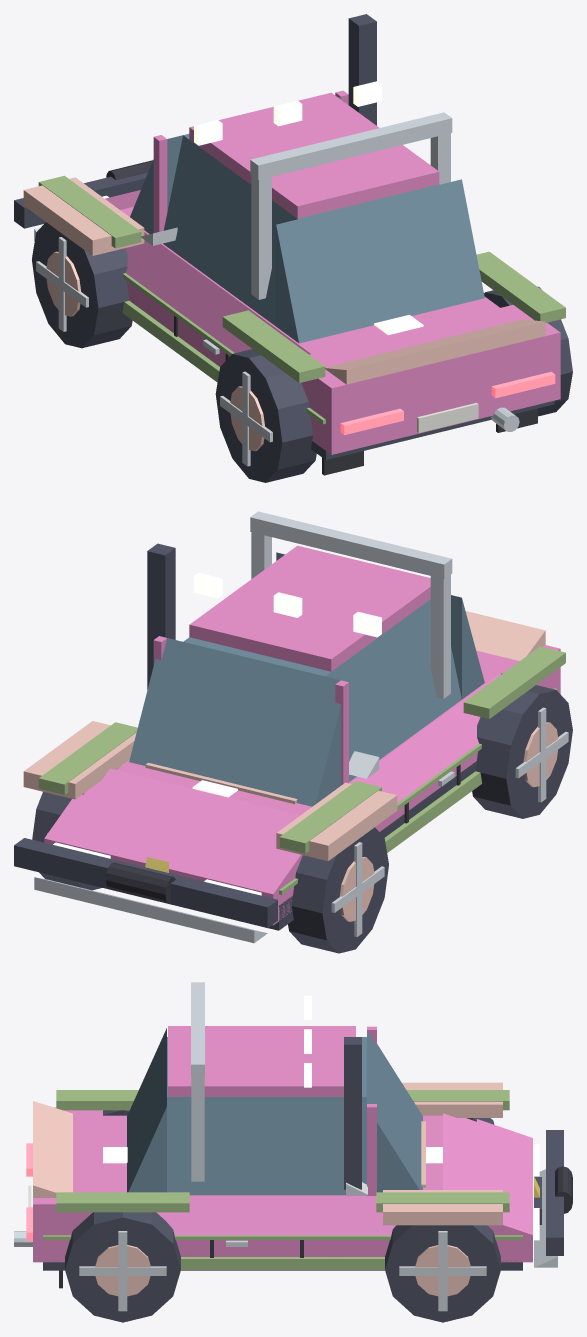
File: prairie_pulse.glb
The picture shows the model from 3 angles, top to bottom: view 1: azimuth 30°, elevation 25°; view 2: azimuth 150°, elevation 25°; view 3: azimuth 270°, elevation 25°; orthographic projection. The views are drawn at different scales.
Visible parts, largest first — view 1: RearWindow.175, Roof.275, Tail.075, CabinSideL.072, Wheel_RL.235, Body.275, Wheel_FL.235, ShoulderL.072, Ducktail.055, RollBar.068, Fender-1.068, Arch-1True.151 (+27 smaller); view 2: Windshield.175, Nose.072, Roof.275, CabinSideL.072, Wheel_RL.235, Wheel_FL.235, BashBar.068, ShoulderL.072, RollBar.068, Fender-1.068, Bumper.271, Fender1.068 (+29 smaller); view 3: CabinSideR.072, Roof.275, ShoulderR.072, Wheel_RR.235, Nose.072, Wheel_FR.235, Windshield.175, Body.275, RearWindow.175, Tail.075, Ducktail.055, Fender1.068 (+23 smaller).
Boxes of the visible parts, bbox=[...] form: RearWindow.175: bbox=[276, 179, 484, 343]; Roof.275: bbox=[189, 92, 439, 218]; Tail.075: bbox=[301, 305, 560, 423]; CabinSideL.072: bbox=[163, 135, 297, 326]; Wheel_RL.235: bbox=[215, 349, 316, 482]; Body.275: bbox=[44, 221, 560, 454]; Wheel_FL.235: bbox=[32, 222, 132, 348]; ShoulderL.072: bbox=[125, 232, 310, 354]; Ducktail.055: bbox=[325, 319, 545, 384]; RollBar.068: bbox=[250, 112, 452, 179]; Fender-1.068: bbox=[23, 177, 144, 255]; Arch-1True.151: bbox=[222, 310, 325, 382]; Windshield.175: bbox=[129, 638, 341, 806]; Nose.072: bbox=[44, 768, 302, 894]; Roof.275: bbox=[189, 545, 430, 671]; CabinSideL.072: bbox=[325, 599, 461, 781]; Wheel_RL.235: bbox=[472, 685, 572, 818]; Wheel_FL.235: bbox=[288, 827, 388, 953]; BashBar.068: bbox=[14, 838, 277, 927]; ShoulderL.072: bbox=[350, 673, 500, 802]; RollBar.068: bbox=[250, 511, 452, 578]; Fender-1.068: bbox=[276, 782, 397, 860]; Bumper.271: bbox=[34, 877, 267, 943]; Fender1.068: bbox=[23, 721, 136, 799]; CabinSideR.072: bbox=[167, 1097, 366, 1195]; Roof.275: bbox=[168, 1026, 355, 1096]; ShoulderR.072: bbox=[156, 1196, 395, 1235]; Wheel_RR.235: bbox=[65, 1212, 180, 1322]; Nose.072: bbox=[443, 1113, 532, 1235]; Wheel_FR.235: bbox=[385, 1225, 500, 1322]; Windshield.175: bbox=[367, 1030, 422, 1192]; Body.275: bbox=[33, 1235, 532, 1262]; RearWindow.175: bbox=[127, 1028, 166, 1192]; Tail.075: bbox=[33, 1107, 102, 1235]; Ducktail.055: bbox=[33, 1101, 72, 1197]; Fender1.068: bbox=[383, 1190, 502, 1225].
Bounding box in the file's own units: 3.06 × 2.9 × 5.59.
